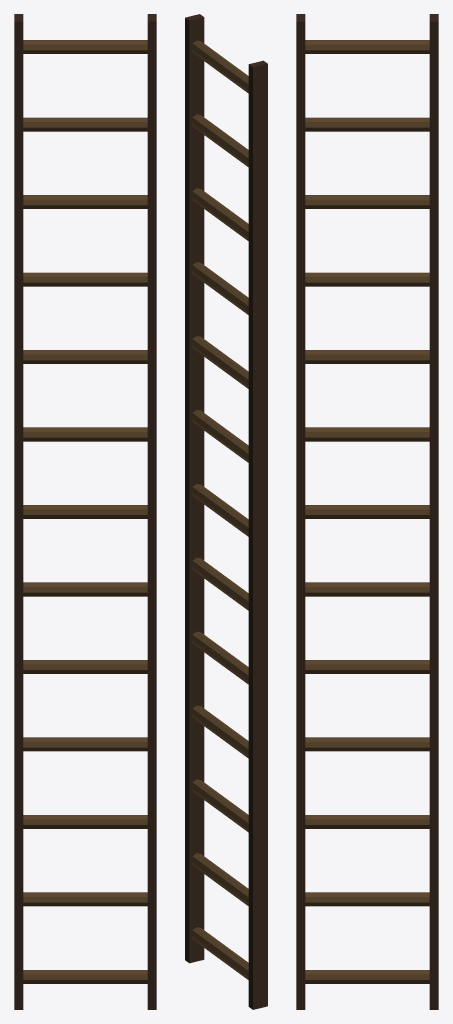
The model's file is Ladder.fbx.
The picture shows the model from 3 angles, left to right: view 1: azimuth 90°, elevation 25°; view 2: azimuth 210°, elevation 25°; view 3: azimuth 270°, elevation 25°; orthographic projection. The views are drawn at different scales.
Visible parts, largest first — view 1: Cylinder, Cube; view 2: Cube, Cylinder; view 3: Cylinder, Cube.
Boxes of the visible parts, x1,y1,x2,y2 form: Cylinder: (23,40,147,983); Cube: (14,14,156,1009); Cube: (185,14,267,1009); Cylinder: (190,40,248,979); Cylinder: (305,40,429,983); Cube: (296,14,438,1009).
Bounding box in the file's own units: 83.8 × 5103 × 667.
